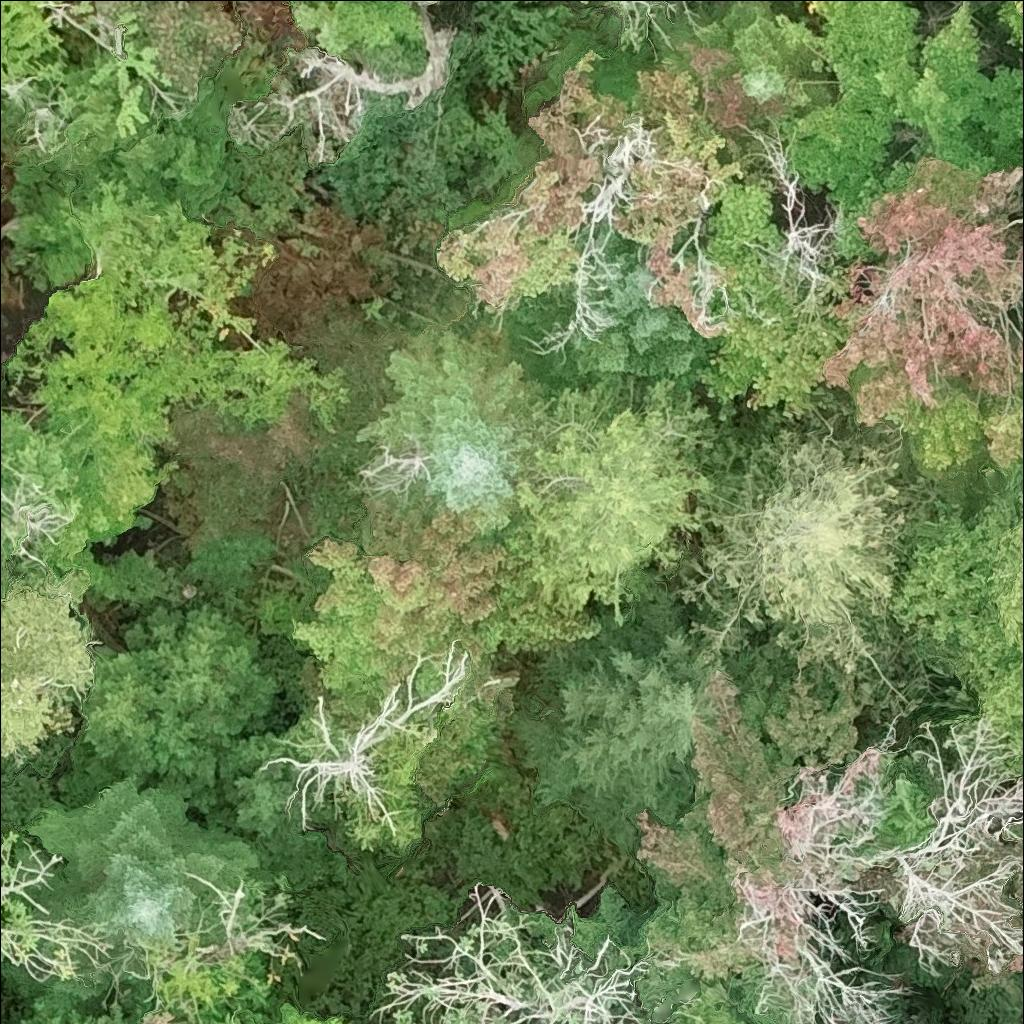crown: (817, 144, 1023, 516), (671, 410, 926, 706), (291, 493, 607, 717), (633, 640, 872, 933), (434, 40, 641, 331), (504, 373, 740, 627), (511, 588, 717, 853), (779, 0, 1023, 213), (614, 36, 784, 340), (25, 773, 274, 947), (352, 322, 562, 528), (892, 462, 1023, 775), (693, 176, 849, 429), (389, 881, 651, 1023), (890, 707, 1023, 977), (528, 232, 719, 397), (81, 648, 250, 786), (0, 565, 97, 766), (126, 603, 284, 722), (744, 119, 839, 288), (698, 0, 833, 105), (346, 734, 434, 853), (159, 934, 269, 1019), (203, 1002, 358, 1023), (618, 0, 658, 35), (140, 1006, 208, 1023), (674, 0, 704, 3), (1021, 1008, 1023, 1015)
